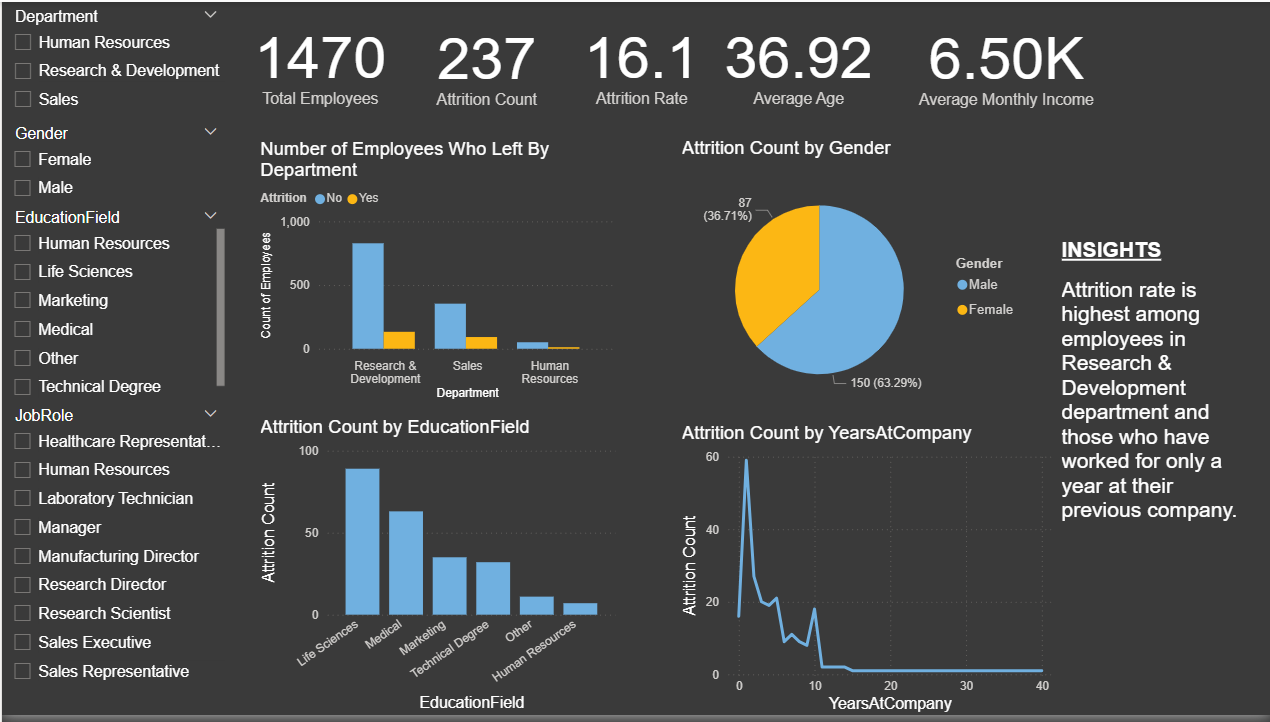

The dashboard page shown, as its layout file describes it:
{"tool":"powerbi","page":{"name":"Overview","canvas":[1280,720],"ordinal":1},"visuals":[{"type":"group","id":"g1","title":"Group 1","box":[238.2,0,885.6,119.8],"z":0},{"type":"card","fields":{"Values":["HR_Attrition_ForPowerBI.Average Age"]},"box":[717.6,0,172.5,118.4],"z":0,"group":"g1"},{"type":"clusteredColumnChart","title":"Number of Employees Who Left By Department","fields":{"Series":["HR_Attrition_ForPowerBI.Attrition"],"Category":["HR_Attrition_ForPowerBI.Department"],"Y":["CountNonNull(HR_Attrition_ForPowerBI.Age)"]},"box":[255.8,137.4,368.3,268.2],"z":0,"group":"g3"},{"type":"slicer","fields":{"Values":["HR_Attrition_ForPowerBI.Department"]},"box":[0,0,229.5,118.4],"z":1000,"group":"g4"},{"type":"card","fields":{"Values":["HR_Attrition_ForPowerBI.Measure"]},"box":[238.2,0,166.6,118.4],"z":1000,"group":"g1"},{"type":"group","id":"g2","title":"Group 2","box":[681,135.9,382.9,584.6],"z":1000},{"type":"pieChart","fields":{"Category":["HR_Attrition_ForPowerBI.Gender"],"Y":["HR_Attrition_ForPowerBI.Attrition Count"]},"box":[681,135.9,353.7,287.2],"z":1000,"group":"g2"},{"type":"card","fields":{"Values":["HR_Attrition_ForPowerBI.Average Monthly Income"]},"box":[904.6,1.5,219.2,118.4],"z":2000,"group":"g1"},{"type":"slicer","fields":{"Values":["HR_Attrition_ForPowerBI.Gender"]},"box":[0,118.4,229.5,87.7],"z":2000,"group":"g4"},{"type":"group","id":"g3","title":"Group 3","box":[255.8,137.4,368.3,583.1],"z":2000},{"type":"lineChart","fields":{"Y":["HR_Attrition_ForPowerBI.Attrition Count"],"Category":["HR_Attrition_ForPowerBI.YearsAtCompany"]},"box":[681,423.1,382.9,297.4],"z":2000,"group":"g2"},{"type":"card","fields":{"Values":["HR_Attrition_ForPowerBI.Attrition Count"]},"box":[404.8,1.5,169.5,118.4],"z":3000,"group":"g1"},{"type":"slicer","fields":{"Values":["HR_Attrition_ForPowerBI.EducationField"]},"box":[0,203.1,229.5,201.7],"z":3000,"group":"g4"},{"type":"textbox","box":[1063.9,233.8,203.1,343.4],"z":3000},{"type":"group","id":"g4","title":"Group 4","box":[0,0,229.5,694.2],"z":4000},{"type":"card","fields":{"Values":["HR_Attrition_ForPowerBI.Attrition Rate"]},"box":[574.3,0,143.2,118.4],"z":4000,"group":"g1"},{"type":"slicer","fields":{"Values":["HR_Attrition_ForPowerBI.JobRole"]},"box":[0,403.4,229.5,290.8],"z":4000,"group":"g4"},{"type":"clusteredColumnChart","fields":{"Y":["HR_Attrition_ForPowerBI.Attrition Count"],"Category":["HR_Attrition_ForPowerBI.EducationField"]},"box":[255.8,417.3,368.3,303.2],"z":6000,"group":"g3"}]}

Visuals, with their boxes in screenshot pixels (x1, y1, x2, y2), scaled from the page's 1280x720 canvas onto the 1270x722 screenshot:
"Group 1" group: box(236, 0, 1115, 120)
card - HR_Attrition_ForPowerBI.Average Age: box(712, 0, 883, 119)
"Number of Employees Who Left By Department" clusteredColumnChart: box(254, 138, 619, 407)
slicer - HR_Attrition_ForPowerBI.Department: box(0, 0, 228, 119)
card - HR_Attrition_ForPowerBI.Measure: box(236, 0, 402, 119)
"Group 2" group: box(676, 136, 1056, 721)
pieChart - HR_Attrition_ForPowerBI.Gender x HR_Attrition_ForPowerBI.Attrition Count: box(676, 136, 1027, 424)
card - HR_Attrition_ForPowerBI.Average Monthly Income: box(898, 2, 1115, 120)
slicer - HR_Attrition_ForPowerBI.Gender: box(0, 119, 228, 207)
"Group 3" group: box(254, 138, 619, 721)
lineChart - HR_Attrition_ForPowerBI.Attrition Count x HR_Attrition_ForPowerBI.YearsAtCompany: box(676, 424, 1056, 721)
card - HR_Attrition_ForPowerBI.Attrition Count: box(402, 2, 570, 120)
slicer - HR_Attrition_ForPowerBI.EducationField: box(0, 204, 228, 406)
textbox: box(1056, 234, 1257, 579)
"Group 4" group: box(0, 0, 228, 696)
card - HR_Attrition_ForPowerBI.Attrition Rate: box(570, 0, 712, 119)
slicer - HR_Attrition_ForPowerBI.JobRole: box(0, 405, 228, 696)
clusteredColumnChart - HR_Attrition_ForPowerBI.Attrition Count x HR_Attrition_ForPowerBI.EducationField: box(254, 418, 619, 721)
